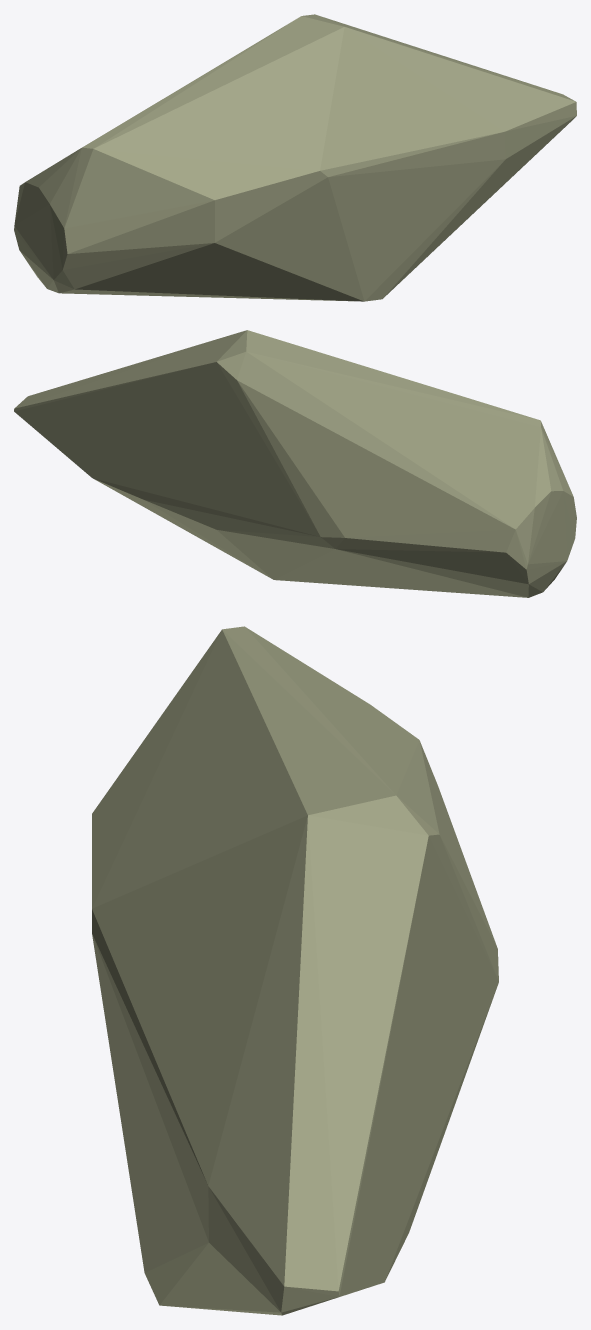
File: brakeSystem_brake_master_cylinder_b01.glb
3 views of the same model, one above another, from view 1: azimuth 30°, elevation 25°; view 2: azimuth 150°, elevation 25°; view 3: azimuth 270°, elevation 25° (orthographic). The views are drawn at different scales.
Parts seen in each view (by area): view 1: geometry_0; view 2: geometry_0; view 3: geometry_0.
Boxes of the visible parts, box(x1,y1,x2,y2) form: geometry_0: box(14, 14, 576, 301); geometry_0: box(14, 330, 576, 597); geometry_0: box(92, 626, 498, 1315).
Size of the model in its own units: 0.48 by 0.2152 by 0.1595.
